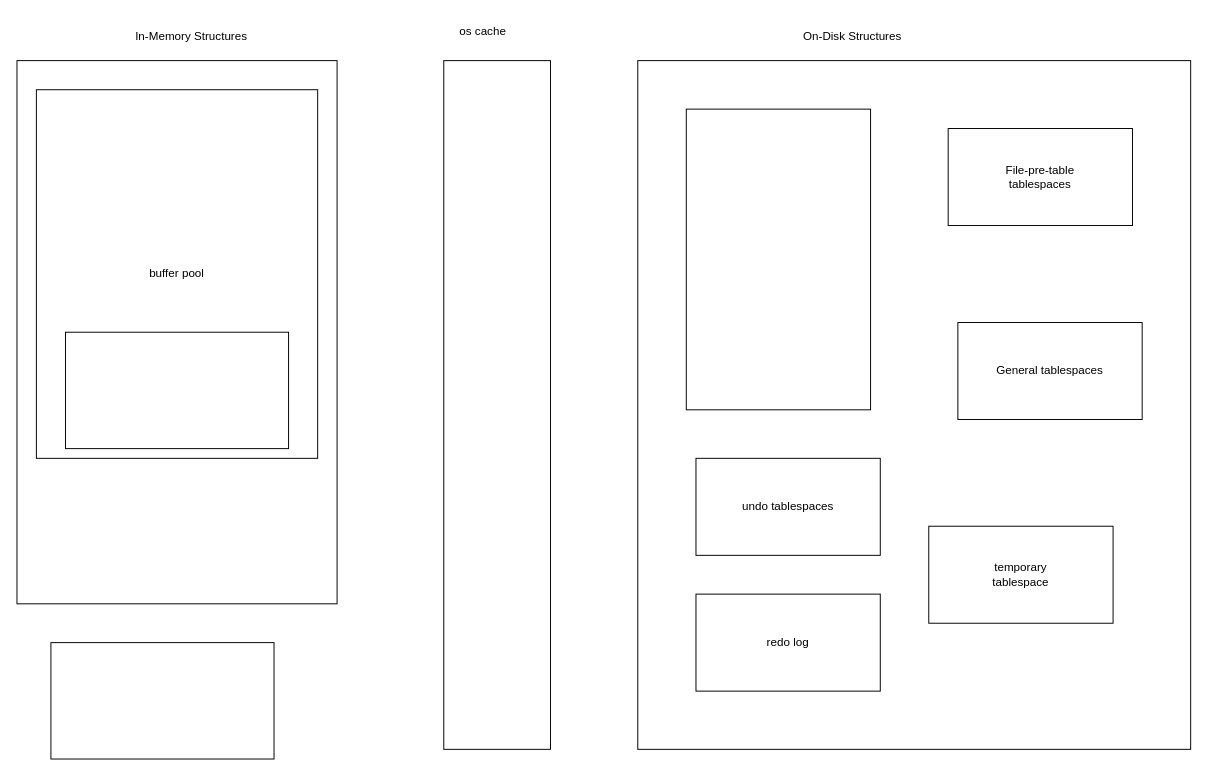
Some shapes in this 1208 by 776 pixel diagram are drawn without their labels. The centre of each missing label's shape, as x and y in pixels:
"change Buffer" belongs at point 177,390.
"log Buffer" belongs at point 162,700.
"System Tableapce" belongs at point 778,259.
